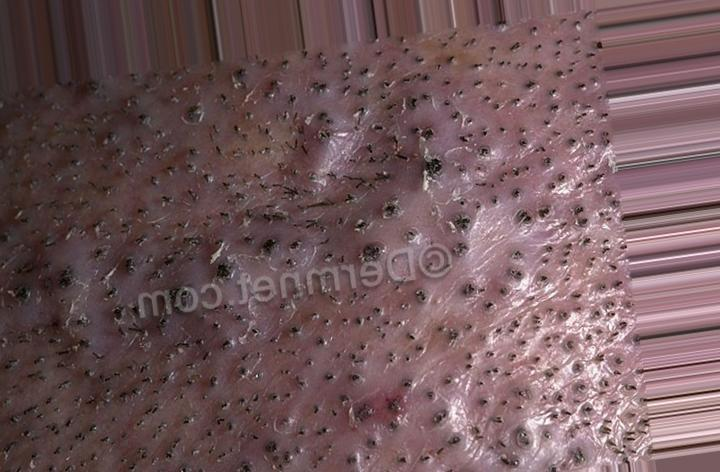Folliculitis: (259, 99, 396, 199)
